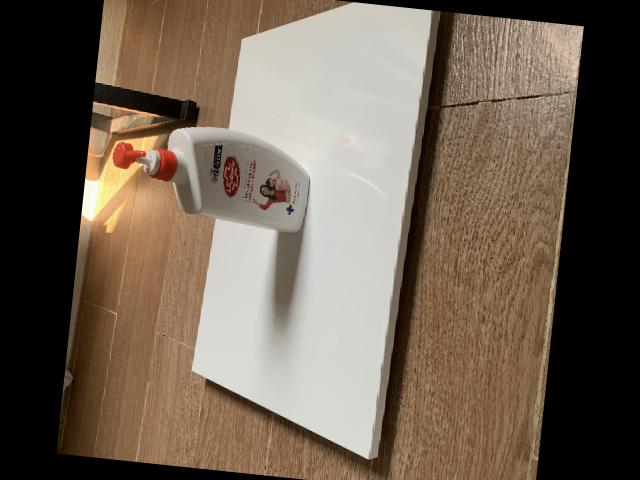life-buoy: (113, 126, 311, 232)
